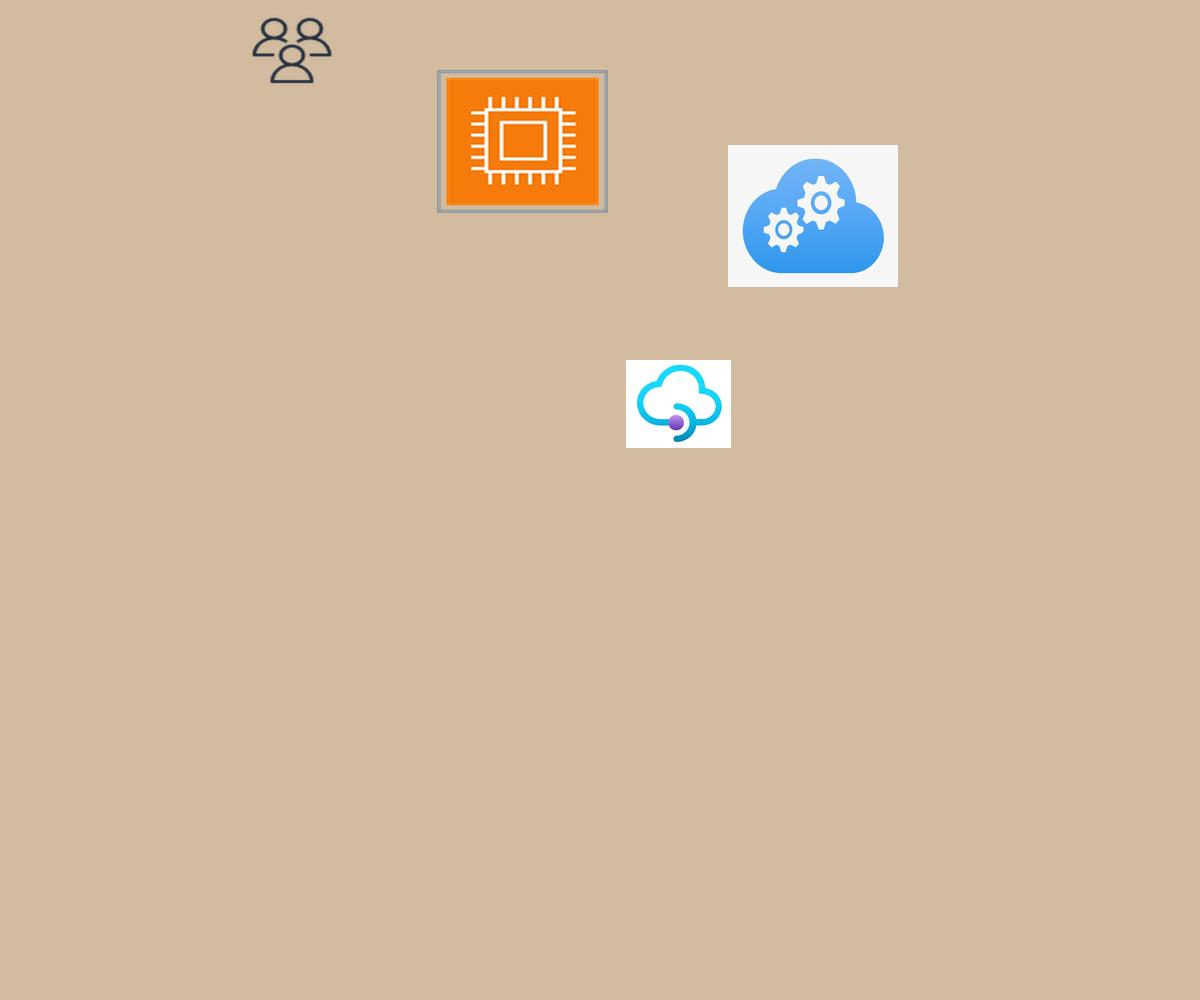AWS-Category_Compute: (437, 70, 608, 213)
AWS-Res_Users: (249, 15, 335, 86)
Azure_api_gateway: (626, 360, 731, 448)
Azure_cloud_services: (728, 145, 898, 287)
